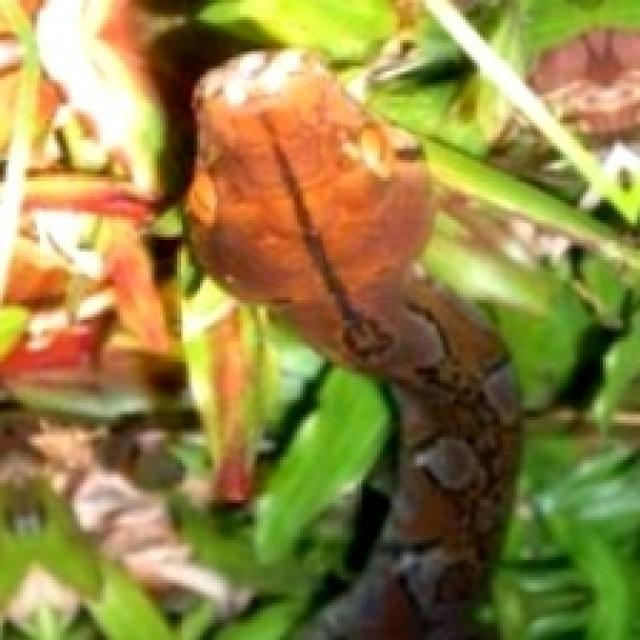reticulated python: (186, 49, 517, 637)
